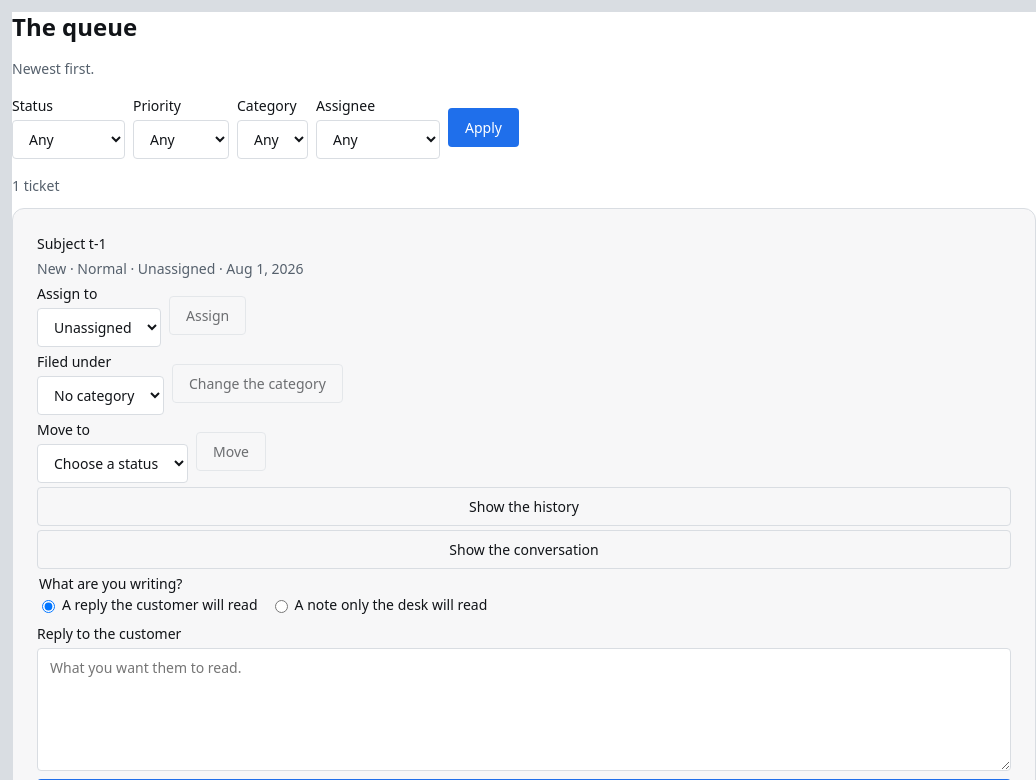
Test case: a stale revision says the ticket changed rather than blaming the server
Expected: the text "Subject t-1" is shown, [37,234,106,253]
Step 1. Select "Open" in the dropdown labelled "Move to" → (112, 464), box [37,444,188,483]
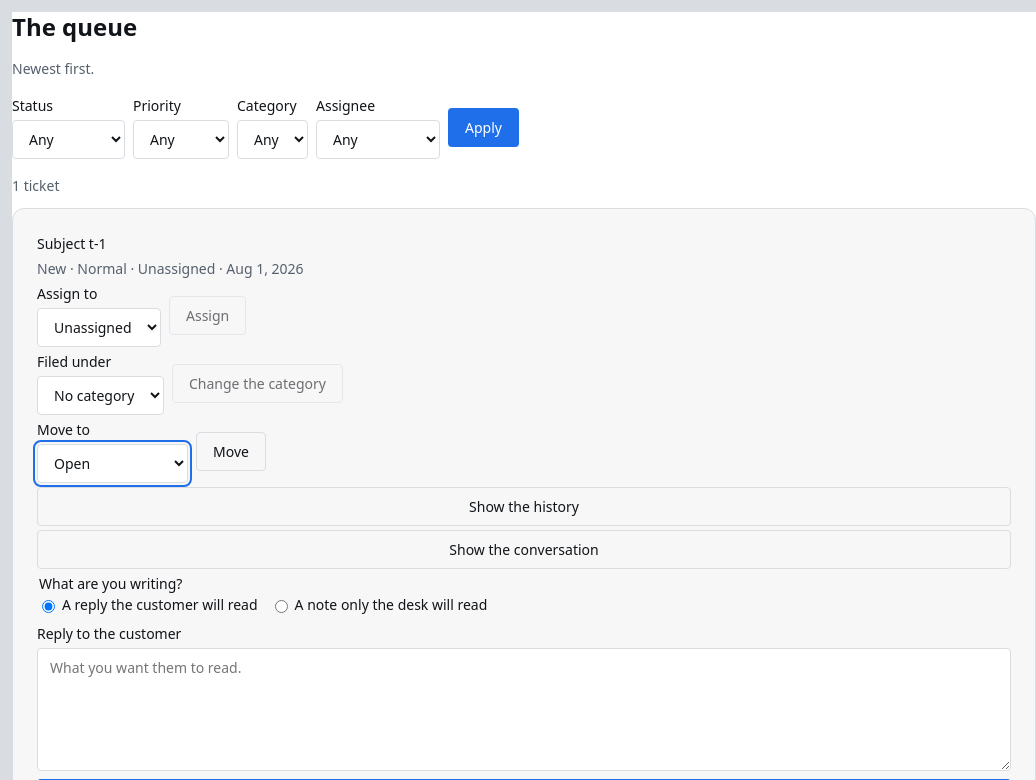
Step 2. Click the button "Move" → (231, 451), box [196,432,266,470]
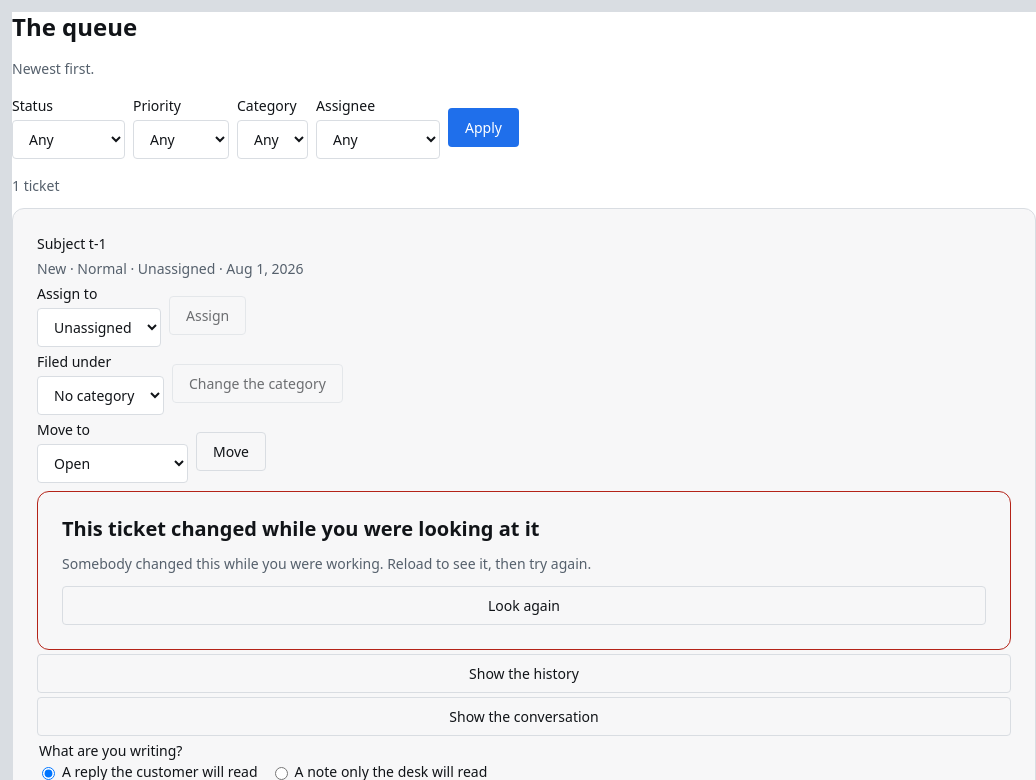
Expected: the heading "This ticket changed while you were looking at it" is shown, [62,515,539,542]
Expected: the text "Somebody changed this while you were working. Reload to see it, then try again." is shown, [62,554,591,573]
